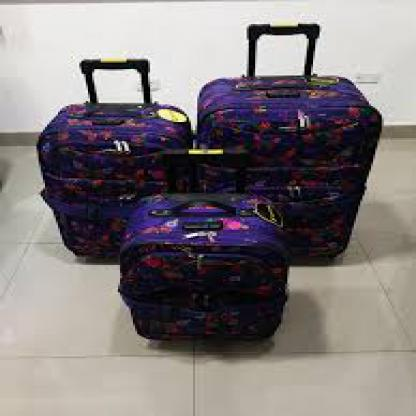maleta: (184, 72, 384, 270), (109, 188, 313, 365), (22, 101, 198, 280)
